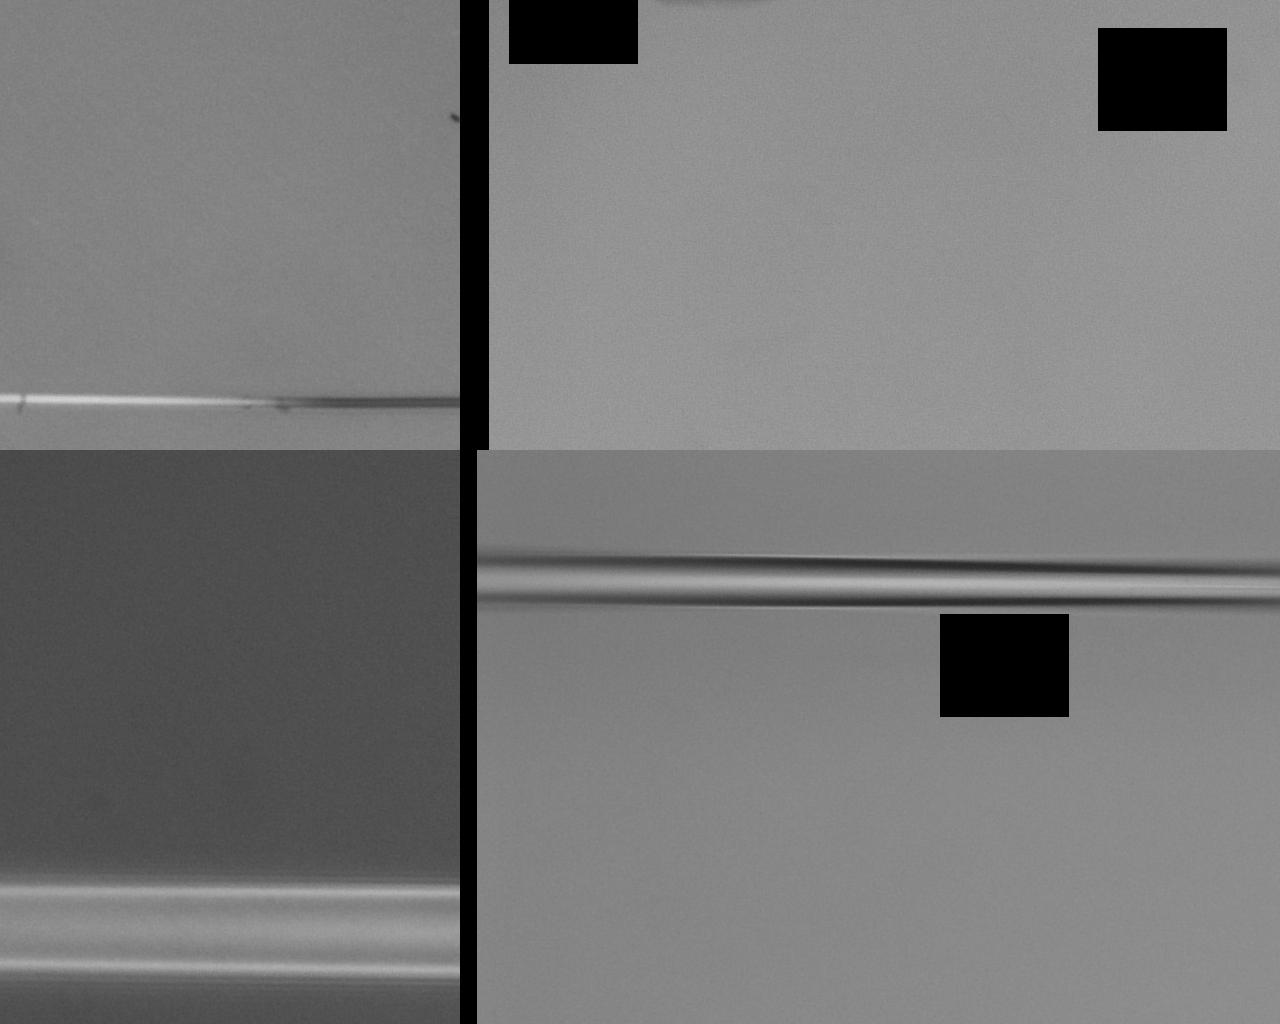fiber: (0, 882, 460, 982), (477, 554, 1280, 610), (0, 390, 460, 409)
